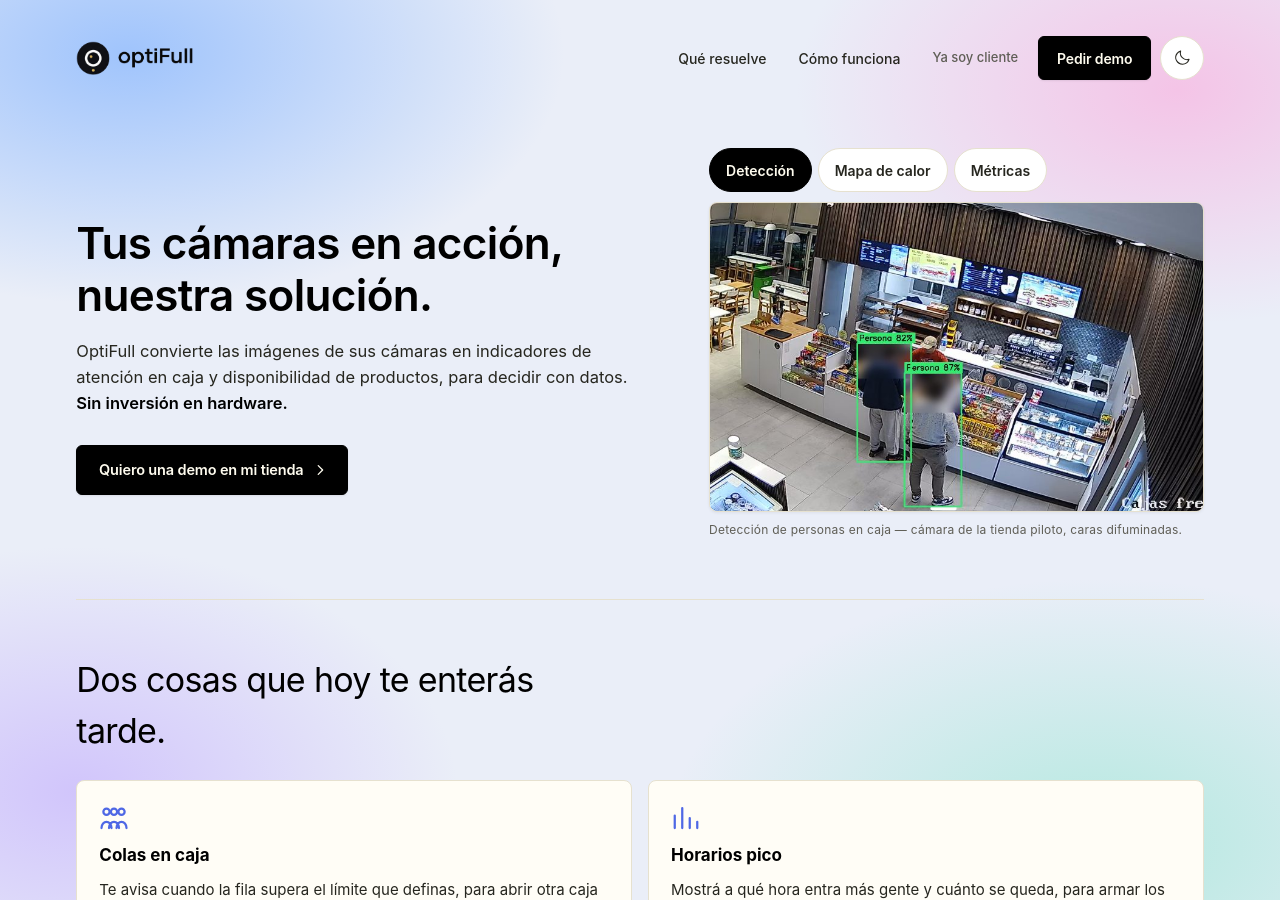
Scenario: LandingPage: panel de demostración con datos reales › sin datos (o con el pedido caído) avisa que todavía no están disponibles
Step 1. Click the tab "Mapa de calor" → (883,170), box [818, 148, 948, 192]
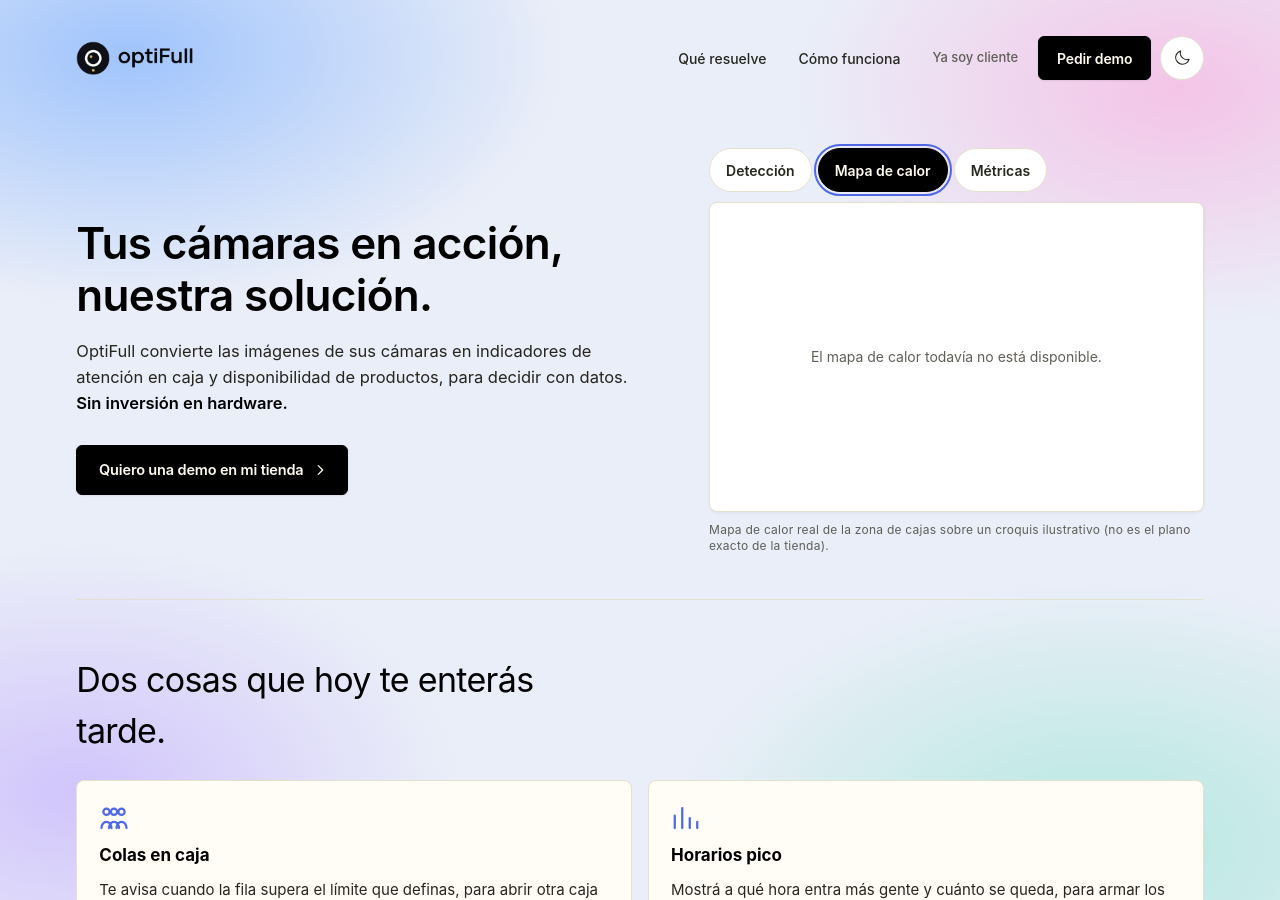
Expected: the text "El mapa de calor todavía no está disponible." is shown, [811, 348, 1102, 365]
Step 2. Click the tab "Métricas" → (1000,170), box [954, 148, 1047, 192]
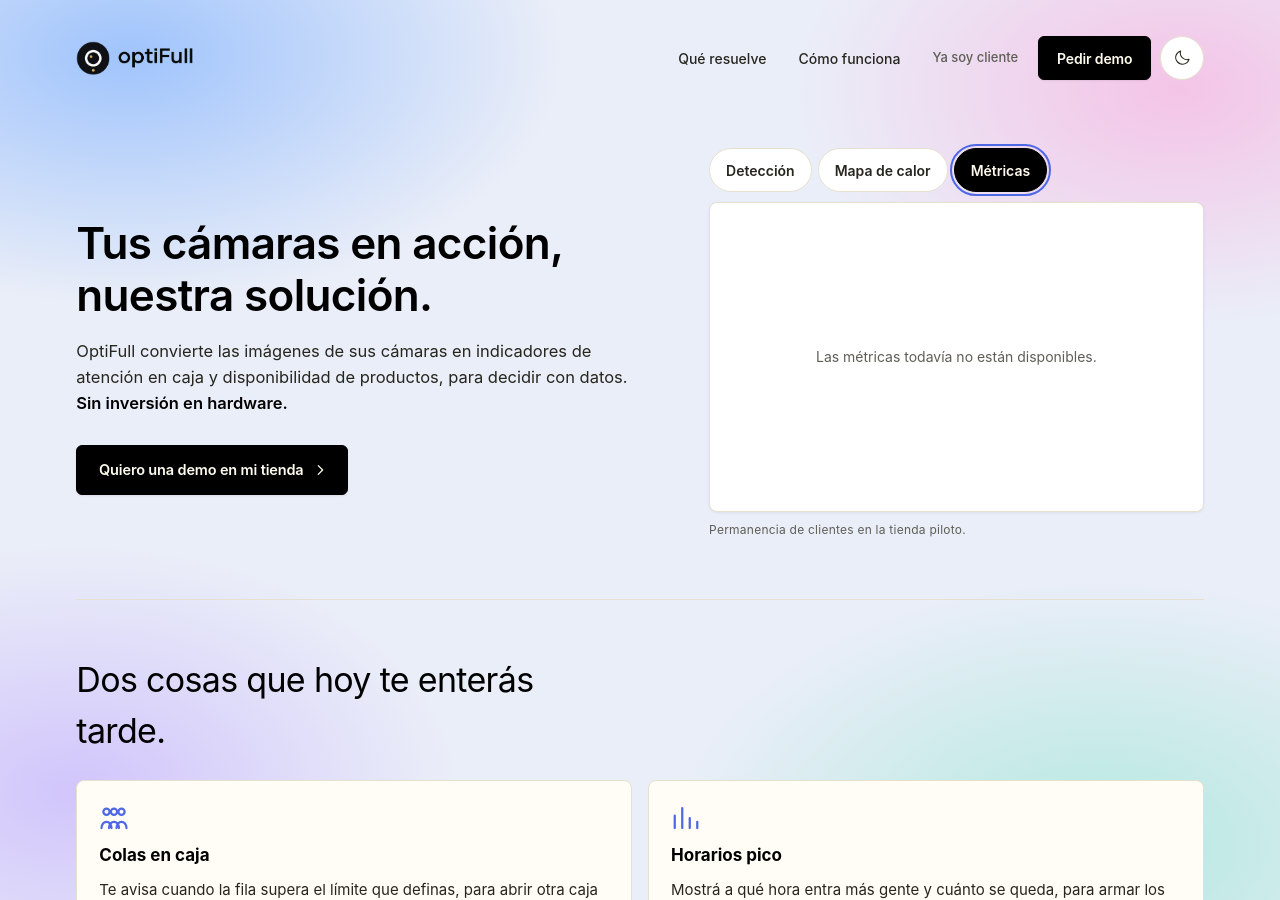
Expected: the text "Las métricas todavía no están disponibles." is shown, [816, 348, 1097, 365]
